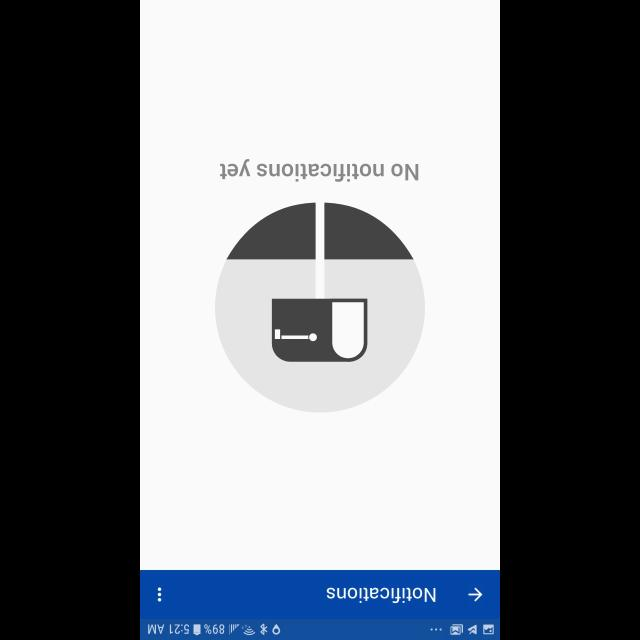icon: (468, 586, 482, 602), (158, 586, 162, 602)
image: (215, 202, 425, 412)
text: (220, 158, 418, 182), (326, 587, 436, 603)
uppertaskbar: (140, 618, 500, 640)
